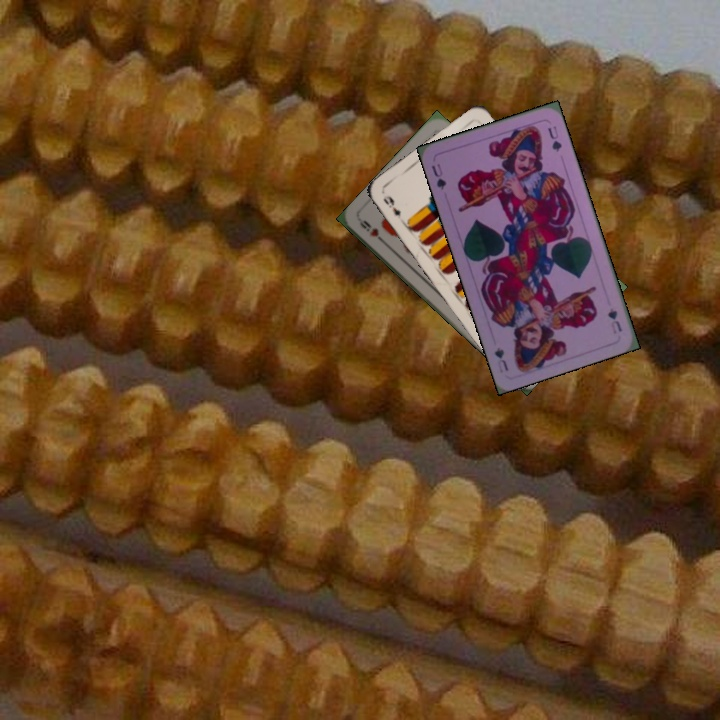E9: (379, 191, 404, 221)
GU: (427, 159, 449, 192), (603, 304, 625, 336)
H9: (355, 215, 389, 247)
